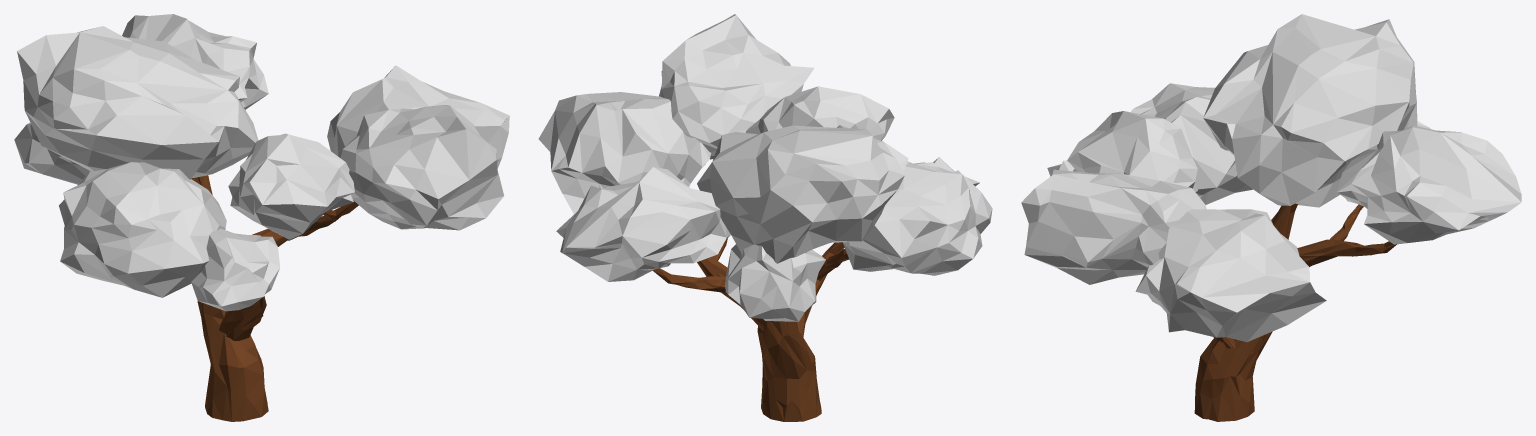
The model's file is Arbre003.fbx.
3 renders of one model, left to right at view 1: azimuth 30°, elevation 25°; view 2: azimuth 150°, elevation 25°; view 3: azimuth 270°, elevation 25°, orthographic. The views are drawn at different scales.
Visible parts, largest first — view 1: Icosphere.056, Icosphere.059, Icosphere.062, Icosphere.061, BezierCurve.006, Icosphere.063, Icosphere.060, Icosphere.058, Icosphere.057; view 2: Icosphere.056, Icosphere.058, Icosphere.063, Icosphere.062, Icosphere.059, BezierCurve.006, Icosphere.057, Icosphere.061; view 3: Icosphere.056, Icosphere.063, Icosphere.058, Icosphere.062, BezierCurve.006, Icosphere.061, Icosphere.059.
Boxes of the visible parts, <box> form: Icosphere.056: <box>17,26,258,179</box>; Icosphere.059: <box>59,162,226,297</box>; Icosphere.062: <box>338,105,504,230</box>; Icosphere.061: <box>228,133,354,239</box>; BezierCurve.006: <box>191,175,358,421</box>; Icosphere.063: <box>327,65,509,168</box>; Icosphere.060: <box>191,228,280,311</box>; Icosphere.058: <box>122,14,268,109</box>; Icosphere.057: <box>14,122,91,184</box>; Icosphere.056: <box>697,125,908,263</box>; Icosphere.058: <box>556,167,730,281</box>; Icosphere.063: <box>538,92,711,213</box>; Icosphere.062: <box>659,14,814,159</box>; Icosphere.059: <box>843,161,992,275</box>; BezierCurve.006: <box>653,238,849,421</box>; Icosphere.057: <box>725,244,825,321</box>; Icosphere.061: <box>745,86,894,140</box>; Icosphere.056: <box>1203,14,1417,207</box>; Icosphere.063: <box>1135,209,1326,342</box>; Icosphere.058: <box>1336,125,1521,244</box>; Icosphere.062: <box>1021,169,1206,284</box>; BezierCurve.006: <box>1194,203,1396,421</box>; Icosphere.061: <box>1067,111,1197,191</box>; Icosphere.059: <box>1131,83,1252,204</box>.
Size of the model in its own units: 421 by 313 by 423.
